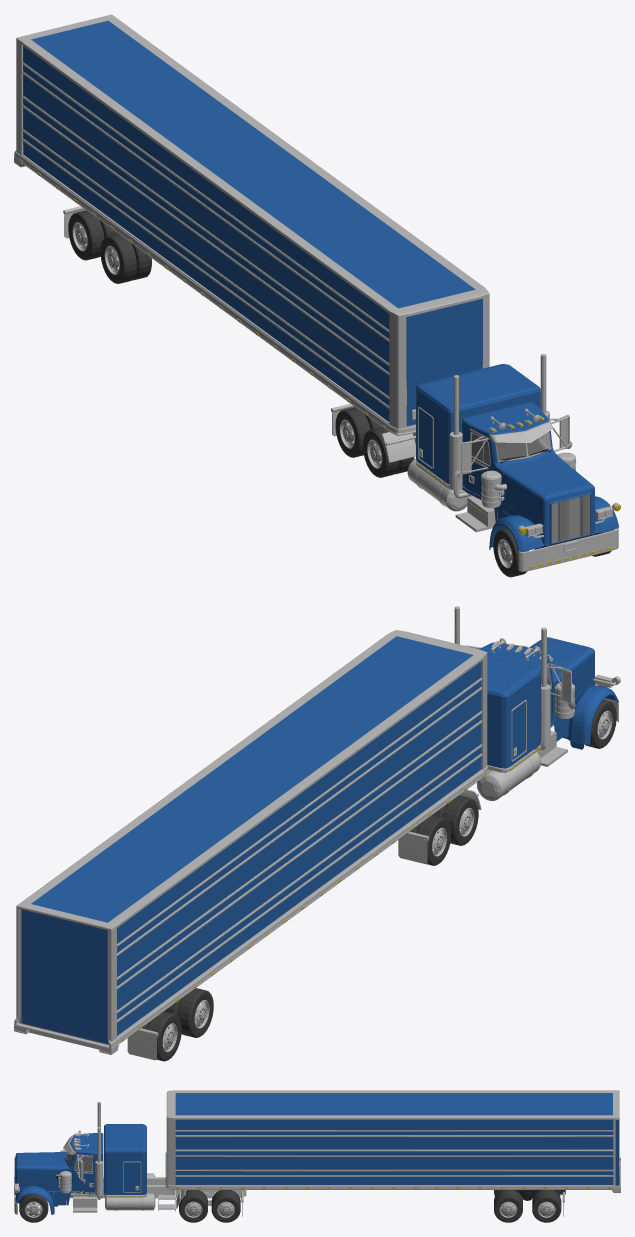
File: sweethome3d-blendswap-cc-0-truck-157.glb
3 renders of one model, top to bottom at view 1: azimuth 30°, elevation 25°; view 2: azimuth 150°, elevation 25°; view 3: azimuth 270°, elevation 25°, orthographic. The views are drawn at different scales.
Parts seen in each view (by area): view 1: Cube.001_Cube.005, Cube.004_Cube.010, cab2_Plane.004, hoodGrill_Plane, wheel.007_Cylinder.001, wheel.007_Cylinder.011, cab_Plane.003, bumper_Plane.006, Cube.001, stacks_Cylinder, grill_Cylinder.001, gasTank_Cylinder.016 (+5 smaller); view 2: Cube.001_Cube.005, Cube.004_Cube.010, cab2_Plane.004, wheel.007_Cylinder.001, hoodGrill_Plane, wheel.007_Cylinder.011, gasTank_Cylinder.016, cab_Plane.003, stacks_Cylinder, mudflapRear.001_Cylinder.001, mudflapRear.001_Cylinder.040; view 3: Cube.001_Cube.005, Cube.004_Cube.010, cab2_Plane.004, wheel.007_Cylinder.001, hoodGrill_Plane, wheel.007_Cylinder.011, cab_Plane.003, gasTank_Cylinder.016, base_Cube.001, stacks_Cylinder, door_Plane.005, stairs.001_Cube.002 (+3 smaller).
Part boxes in pixels (x1,y1,x2,y2): Cube.001_Cube.005: (14,14,489,435); Cube.004_Cube.010: (22,62,389,408); cab2_Plane.004: (416,364,540,488); hoodGrill_Plane: (489,457,618,551); wheel.007_Cylinder.001: (335,407,613,577); wheel.007_Cylinder.011: (68,210,151,283); cab_Plane.003: (462,402,559,522); bumper_Plane.006: (518,528,618,571); Cube.001: (467,433,589,549); stacks_Cylinder: (449,354,549,498); grill_Cylinder.001: (551,494,589,543); gasTank_Cylinder.016: (407,458,471,511); Cube.001_Cube.005: (14,630,488,1054); Cube.004_Cube.010: (117,677,482,1022); cab2_Plane.004: (487,656,540,772); wheel.007_Cylinder.001: (410,700,616,865); hoodGrill_Plane: (529,637,618,744); wheel.007_Cylinder.011: (141,988,213,1061); gasTank_Cylinder.016: (477,749,540,800); cab_Plane.003: (479,642,564,741); stacks_Cylinder: (454,606,550,750); mudflapRear.001_Cylinder.001: (398,831,429,864); mudflapRear.001_Cylinder.040: (127,1028,158,1060); Cube.001_Cube.005: (165,1090,620,1192); Cube.004_Cube.010: (175,1130,613,1176); cab2_Plane.004: (104,1124,146,1197); wheel.007_Cylinder.001: (19,1190,240,1222); hoodGrill_Plane: (14,1152,62,1214); wheel.007_Cylinder.011: (494,1190,561,1222); cab_Plane.003: (53,1133,103,1205); gasTank_Cylinder.016: (105,1173,155,1210); base_Cube.001: (53,1177,246,1205); stacks_Cylinder: (95,1101,102,1199); door_Plane.005: (72,1153,95,1188); stairs.001_Cube.002: (73,1196,97,1212).
Size of the model in its own units: 287 by 403 by 2105.
